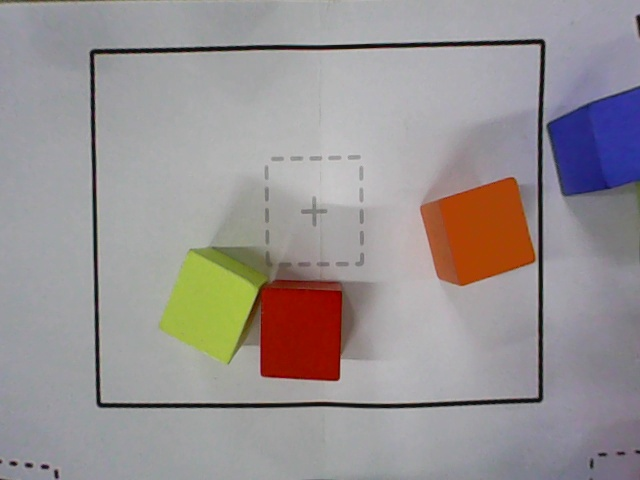upside of small cube: (157, 248, 261, 366), (438, 178, 536, 287), (261, 287, 341, 381), (586, 87, 639, 188)
